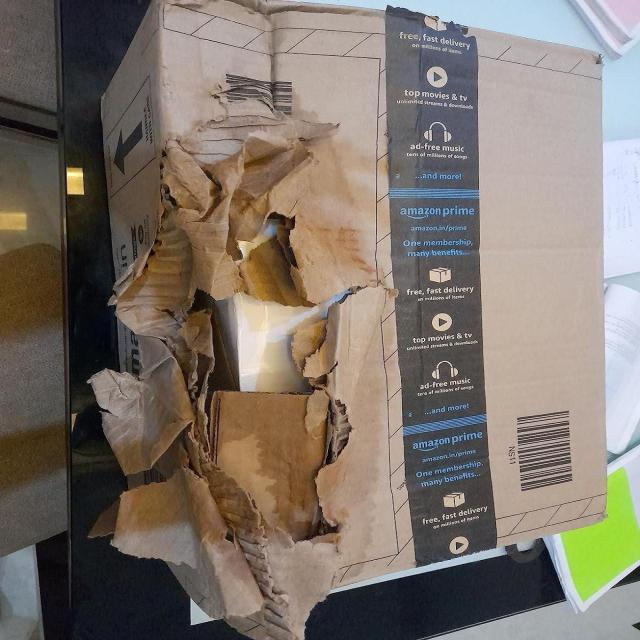Garbage: (82, 1, 618, 640)
